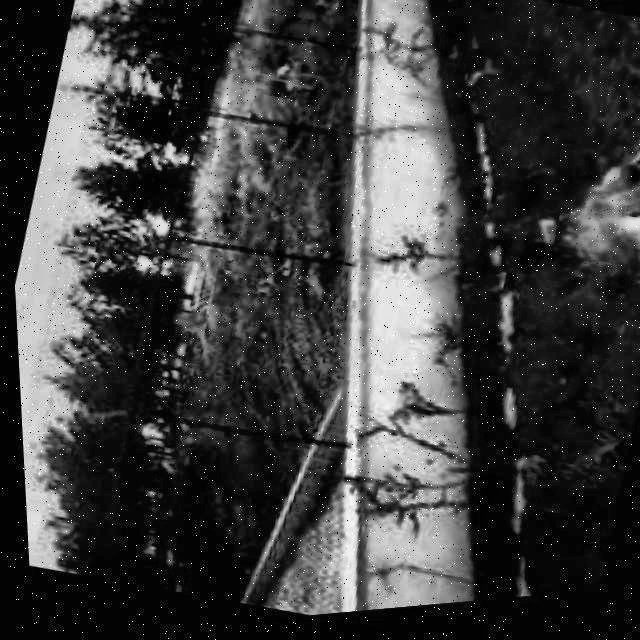Fire: (532, 135, 640, 328)
